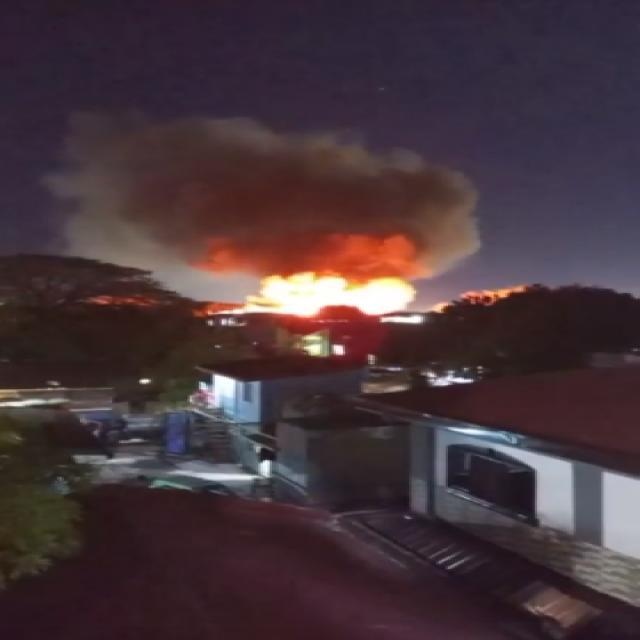Fire: (244, 272, 419, 316)
Smoke: (128, 117, 481, 280)
